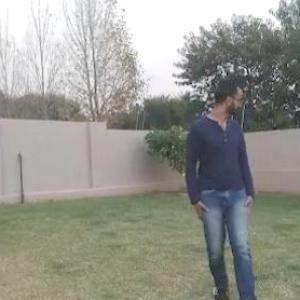follow: (169, 26, 273, 299)
